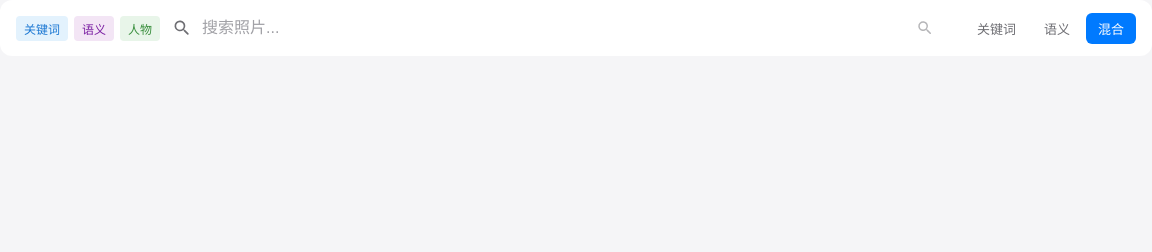
Test: SearchBar Component - Epic E-05 › E-05.3: 搜索历史记录 › should display recent searches when input is focused (AC: 显示历史搜索记录)
Focus the field with class "search-input". click: [550, 28]
box: [200, 18, 901, 38]
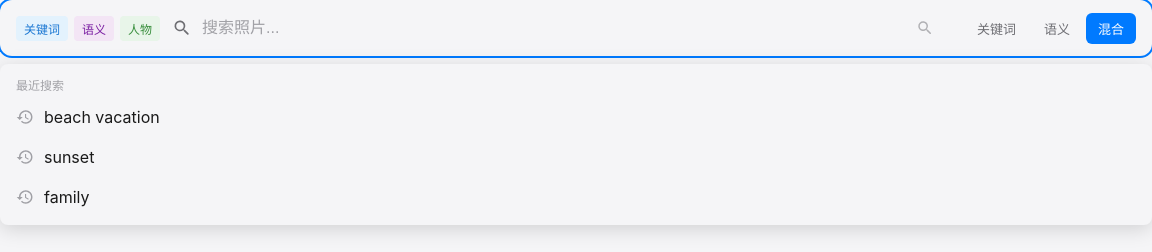
Expected: the element with class "suggestion-section" is shown, [16, 78, 160, 207]
